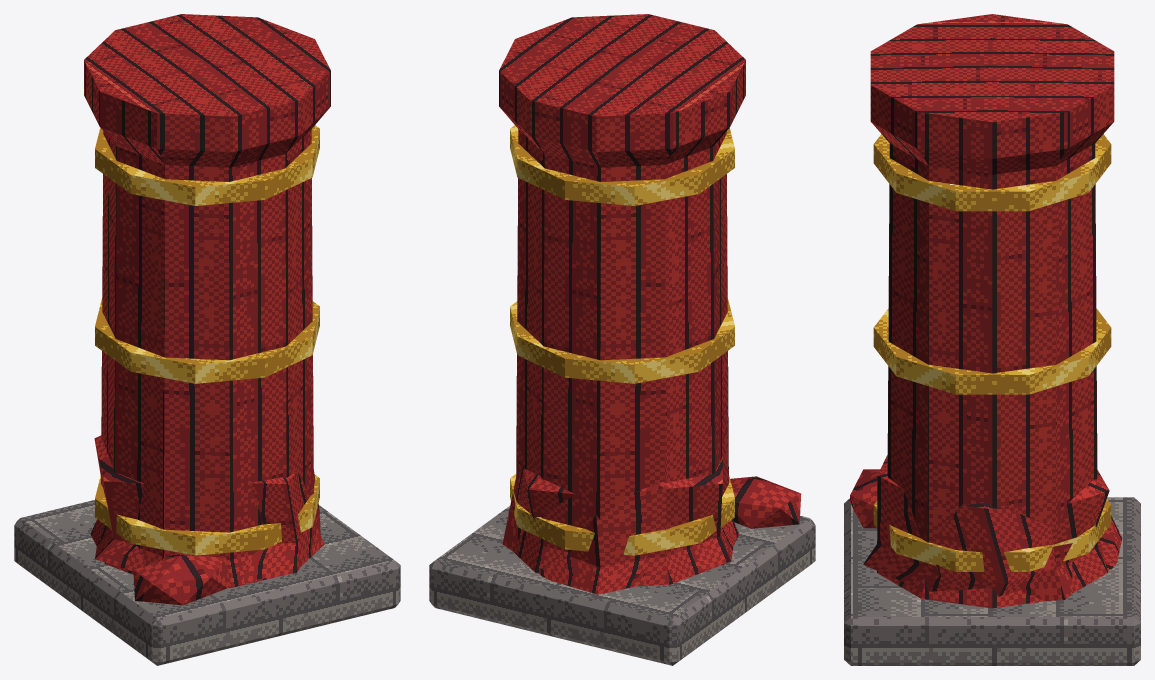
The model's file is bell_pillar.glb.
3 renders of one model, left to right at view 1: azimuth 30°, elevation 25°; view 2: azimuth 150°, elevation 25°; view 3: azimuth 270°, elevation 25°, orthographic. The views are drawn at different scales.
Parts seen in each view (by area): view 1: Column, Base, Stub; view 2: Column, Base, Stub; view 3: Column, Base, Stub.
Part boxes in pixels (x1,y1,x2,y2): Column: (84,14,330,587); Base: (14,500,400,665); Stub: (94,435,320,605); Column: (499,14,745,586); Base: (429,506,815,665); Stub: (502,456,801,594); Column: (870,14,1114,608); Base: (844,497,1140,665); Stub: (850,455,1122,601).
Size of the model in its own units: 2.2 by 4.42 by 2.2.
Materials: 3 (3 with a texture image).
